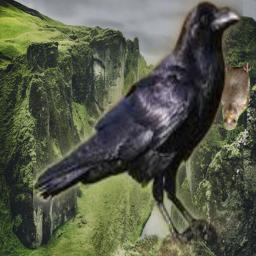Crow: (33, 0, 243, 256)
Sparrow: (220, 58, 251, 130)
